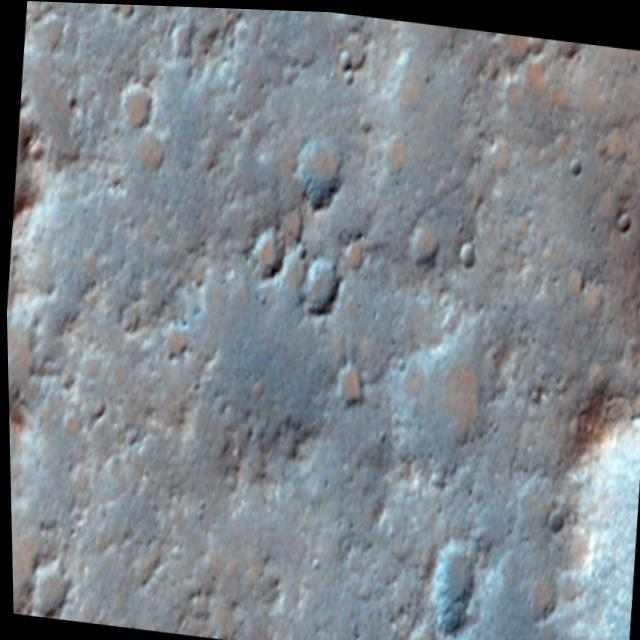Crater: (537, 146, 640, 640)
